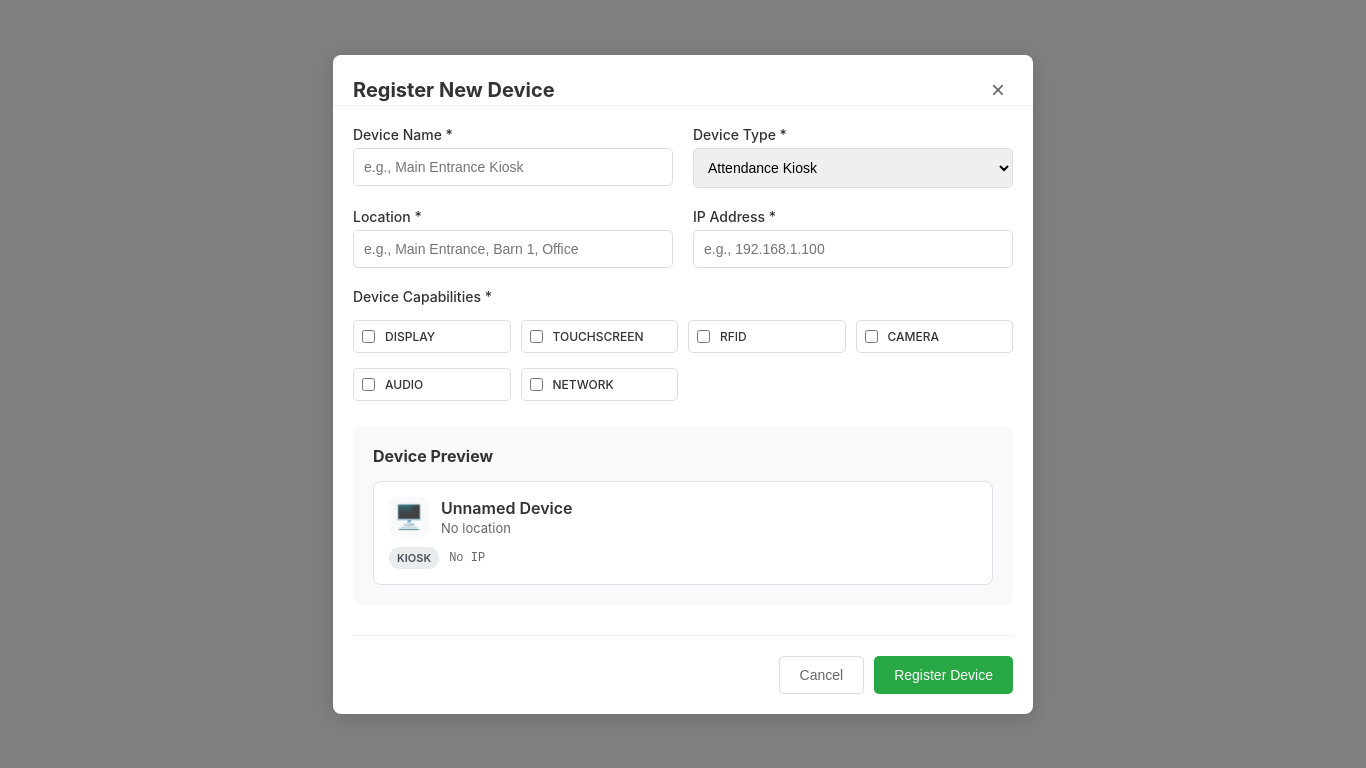
DeviceRegistration › validates required fields
Step 1. Click the button "Register Device" → click(944, 674), box [874,656,1013,694]
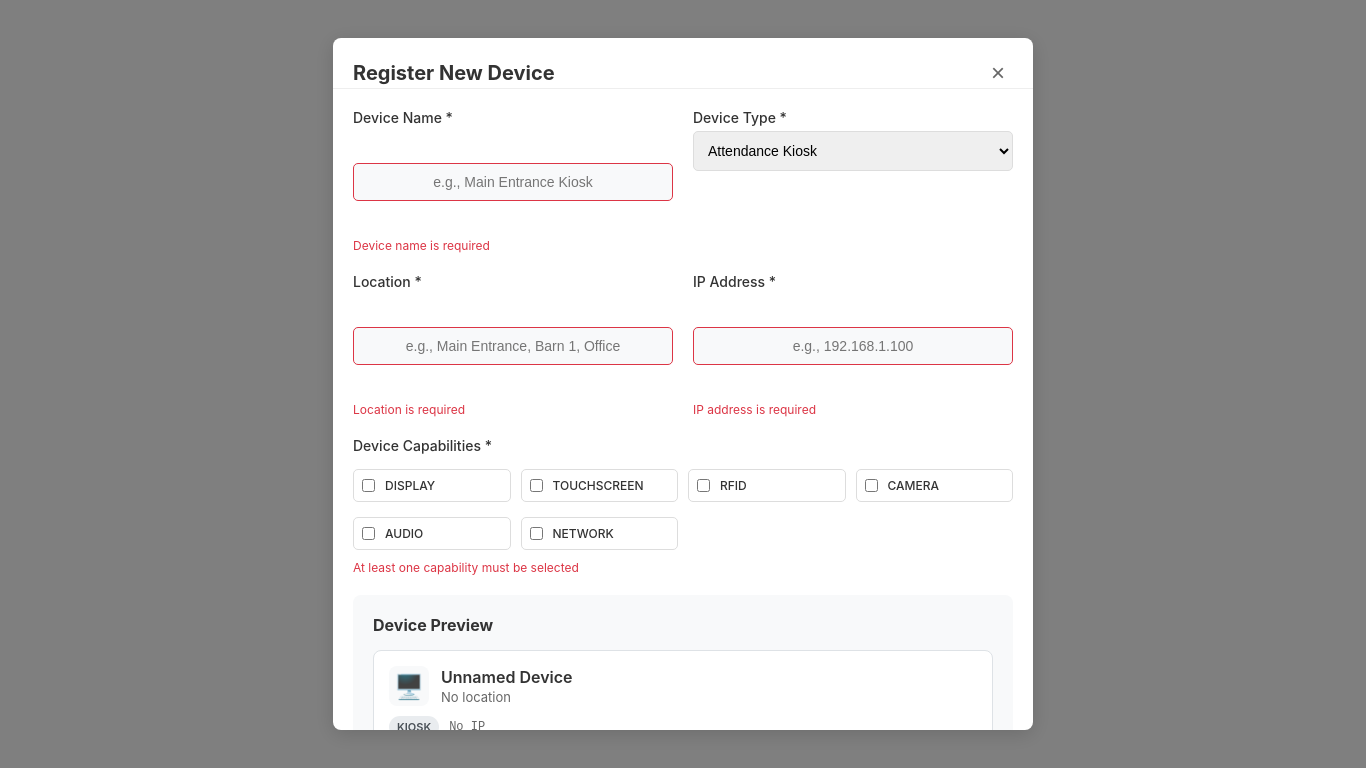
Check: the text "Device name is required" is shown, box [353,238,490,253]
Check: the text "Location is required" is shown, box [353,402,465,417]
Check: the text "IP address is required" is shown, box [693,402,816,417]
